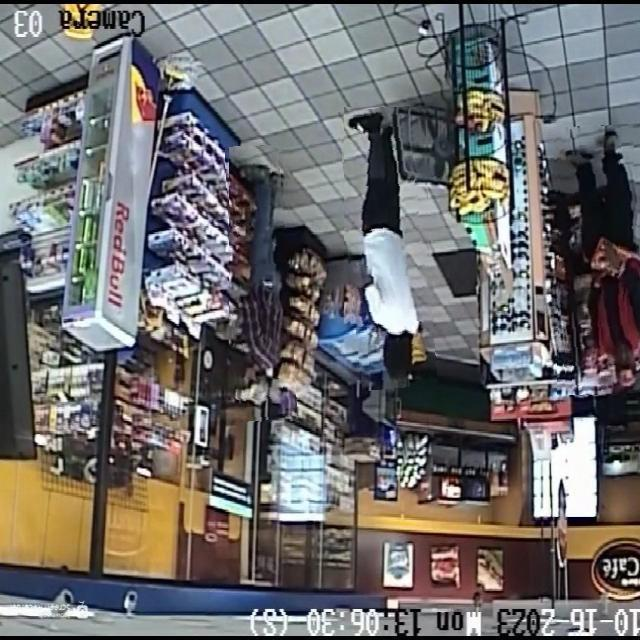Normal: (344, 107, 432, 389), (557, 125, 640, 395), (229, 146, 295, 422)
